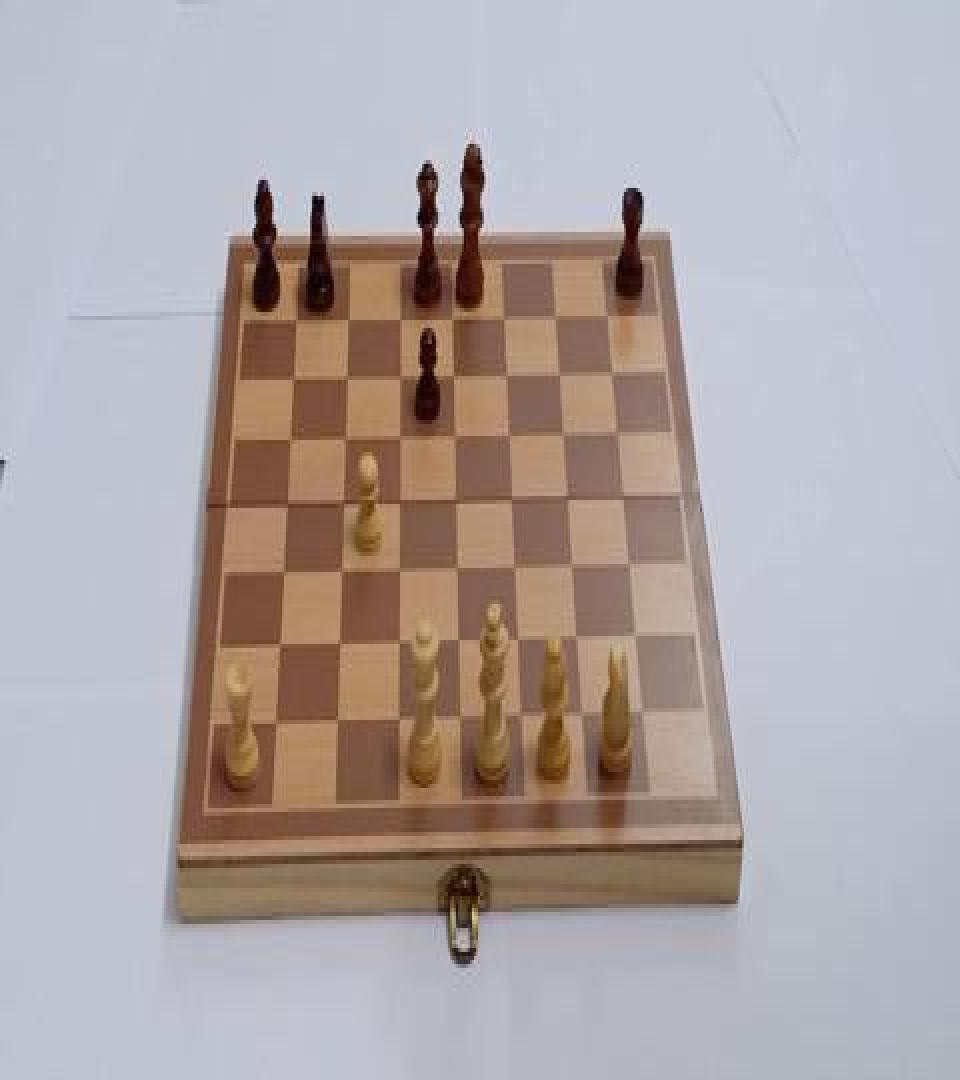xcorner: (288, 310, 300, 334), (285, 366, 297, 390), (282, 428, 294, 452), (279, 492, 291, 516), (275, 560, 287, 584), (272, 634, 284, 658), (268, 710, 280, 734), (340, 308, 352, 332), (339, 366, 351, 390), (337, 426, 349, 450), (335, 492, 347, 516), (334, 560, 346, 584), (332, 632, 344, 656), (330, 710, 342, 734), (392, 306, 404, 330), (392, 364, 404, 388), (392, 426, 404, 450), (392, 490, 404, 514), (392, 558, 404, 582), (392, 630, 404, 654), (392, 708, 404, 732), (444, 306, 456, 330), (446, 364, 458, 388), (447, 424, 459, 448), (449, 488, 461, 512), (451, 556, 463, 580), (452, 630, 464, 654), (454, 706, 466, 730), (496, 304, 508, 328), (499, 362, 511, 386), (502, 424, 514, 448), (505, 488, 517, 512), (509, 556, 521, 580), (512, 628, 524, 652), (516, 704, 528, 728), (549, 304, 561, 328), (553, 362, 565, 386), (557, 422, 569, 446), (562, 486, 574, 510), (567, 554, 579, 578), (572, 626, 584, 650), (578, 704, 590, 728), (601, 302, 613, 326), (606, 360, 618, 384), (612, 420, 624, 444), (619, 484, 631, 508), (625, 552, 637, 576), (632, 626, 644, 650), (640, 702, 652, 726)
